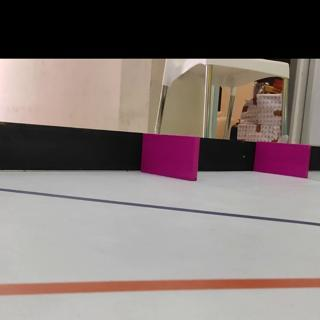xparking: (143, 135, 198, 173), (257, 143, 311, 171)
